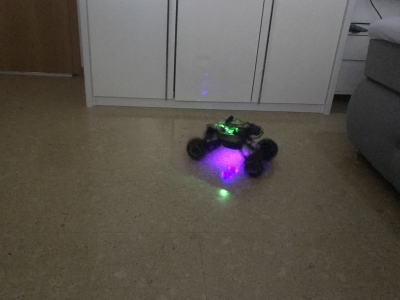remote control car: (184, 112, 280, 178)
